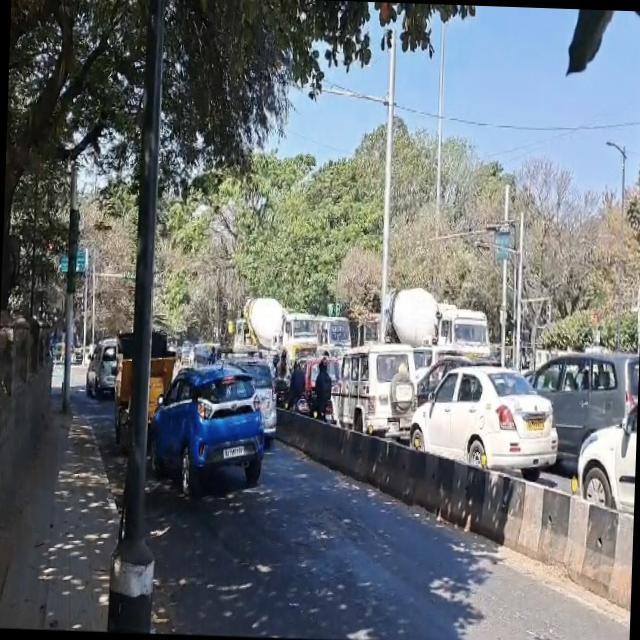cars: (410, 365, 562, 491), (150, 363, 268, 500), (522, 352, 640, 471), (331, 341, 420, 447)
